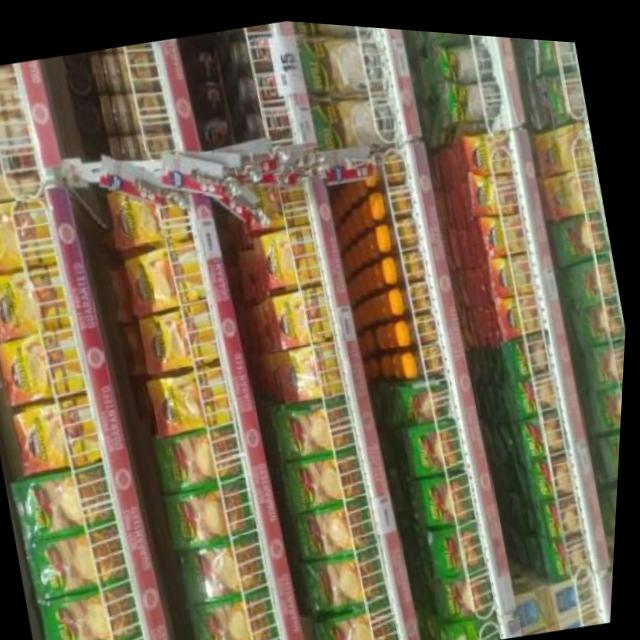Coffee: (13, 391, 109, 476), (0, 323, 91, 408), (148, 359, 238, 438), (125, 235, 211, 314), (138, 297, 225, 375), (106, 178, 193, 252), (0, 259, 75, 344), (277, 335, 348, 404), (0, 195, 59, 278), (268, 278, 338, 347), (259, 217, 325, 286), (244, 172, 310, 230), (532, 112, 595, 170), (543, 156, 602, 213), (469, 163, 521, 212), (465, 121, 516, 170), (497, 283, 545, 331), (484, 203, 529, 251), (246, 101, 295, 140), (491, 245, 536, 287), (380, 209, 423, 250), (233, 27, 275, 68), (386, 239, 429, 279), (372, 176, 415, 215), (406, 334, 447, 373), (365, 145, 408, 182), (240, 65, 281, 102), (394, 274, 435, 311), (400, 304, 441, 341)
